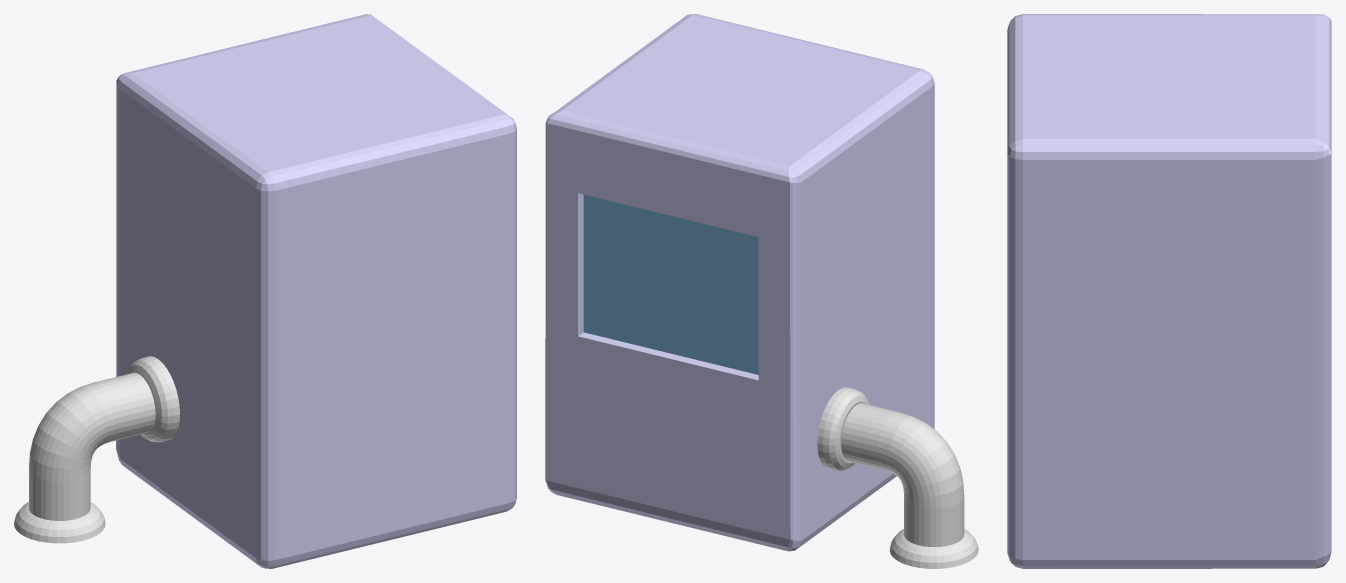
File: house_a01.glb
3 views of the same model, side by side, from view 1: azimuth 30°, elevation 25°; view 2: azimuth 150°, elevation 25°; view 3: azimuth 270°, elevation 25° (orthographic). The views are drawn at different scales.
Visible parts, largest first — view 1: Cube.189, Cube.154; view 2: Cube.189, Cube.159, Cube.154; view 3: Cube.189.
Boxes of the visible parts, box(x1,y1,x2,y2) form: Cube.189: box(116, 14, 516, 568); Cube.154: box(14, 356, 179, 543); Cube.189: box(545, 14, 934, 551); Cube.159: box(583, 194, 758, 374); Cube.154: box(817, 387, 978, 568); Cube.189: box(1007, 14, 1331, 568).
Size of the model in its own units: 4.12 by 3.91 by 2.68.
